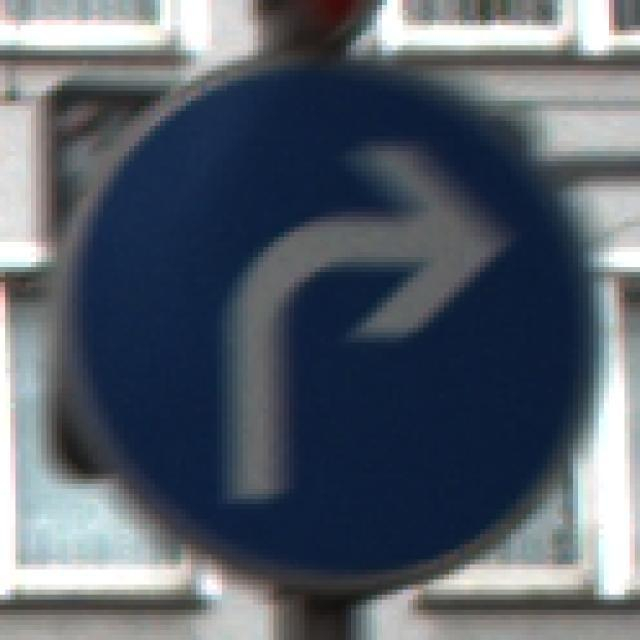compulsary turn right ahead: (58, 56, 603, 590)
